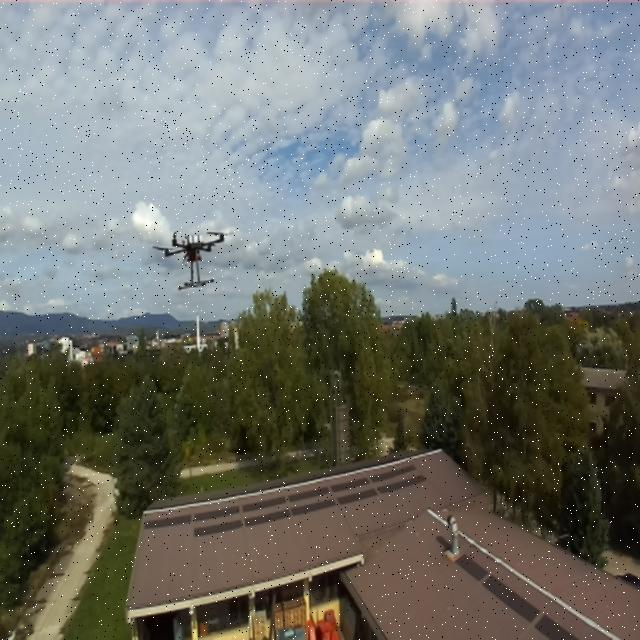UAV: (145, 222, 238, 292)
